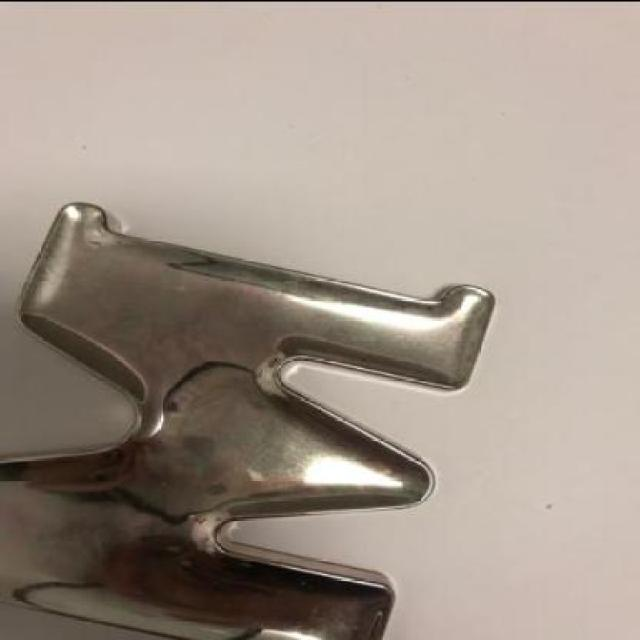METAL: (1, 200, 498, 638)
